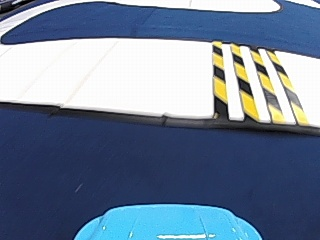bump: (196, 40, 297, 118)
